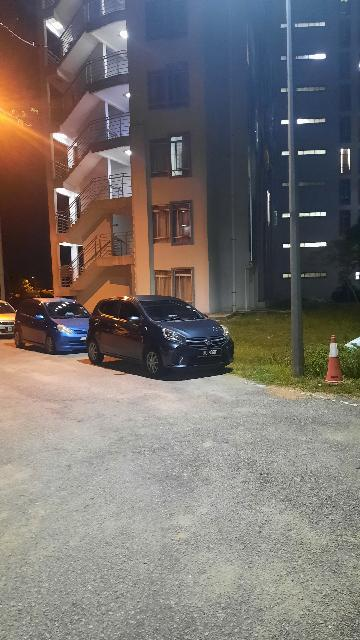License_Plate: (196, 345, 225, 360)
car: (86, 292, 248, 378)
